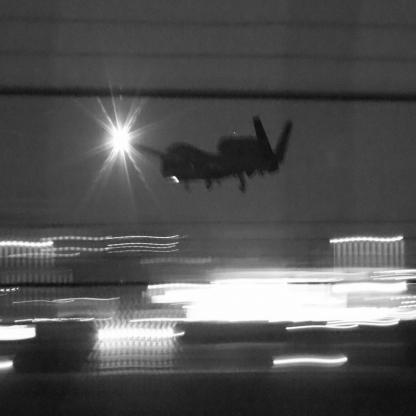RQ4: (127, 116, 295, 196)
